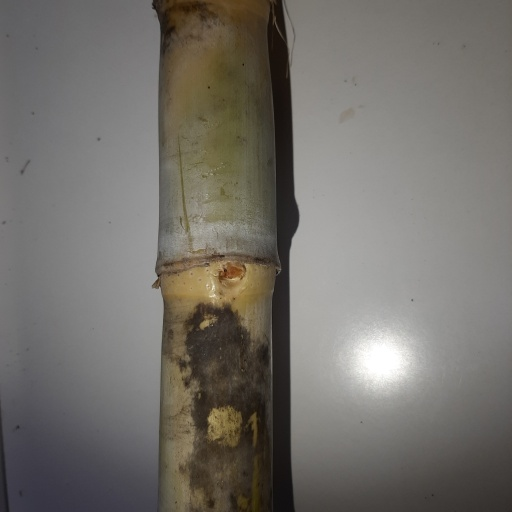Damage_Bud: (218, 259, 247, 291)
